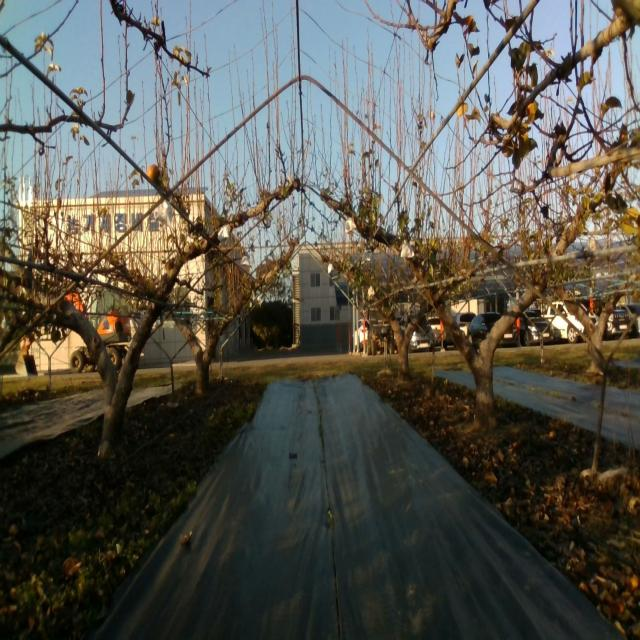pearbags: (155, 199, 173, 228), (400, 239, 415, 259), (217, 224, 230, 243)
